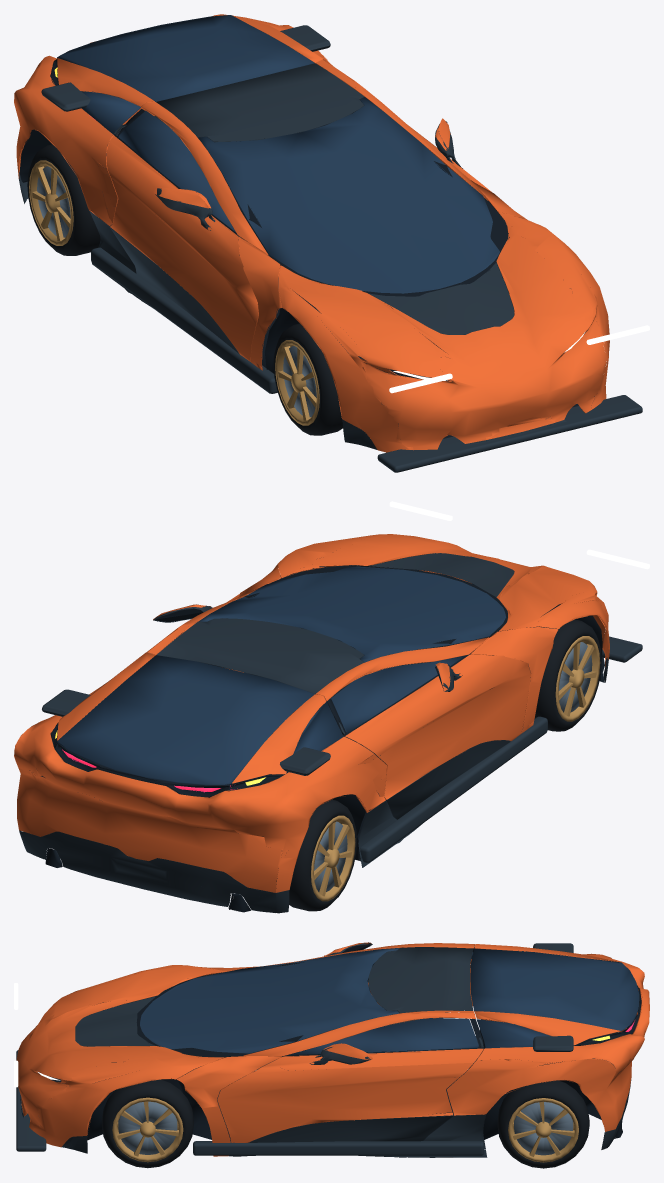
Rendered from velour-lod1.glb.
3 views of the same model, one above another, from view 1: azimuth 30°, elevation 25°; view 2: azimuth 150°, elevation 25°; view 3: azimuth 270°, elevation 25° (orthographic). The views are drawn at different scales.
Visible parts, largest first — view 1: Body, WheelFrontR, WheelRearR; view 2: Body, WheelRearR, WheelFrontR; view 3: Body, WheelRearL, WheelFrontL.
Part boxes in pixels (box(x1,y1,x2,y2)): Body: box(14, 14, 649, 472); WheelFrontR: box(273, 323, 342, 435); WheelRearR: box(27, 144, 100, 255); Body: box(14, 501, 649, 913); WheelRearR: box(289, 799, 357, 911); WheelFrontR: box(534, 619, 601, 731); Body: box(14, 942, 649, 1157); WheelRearL: box(497, 1080, 589, 1168); WheelFrontL: box(102, 1079, 193, 1168).
Size of the model in its own units: 2.27 by 1.28 by 5.31.
